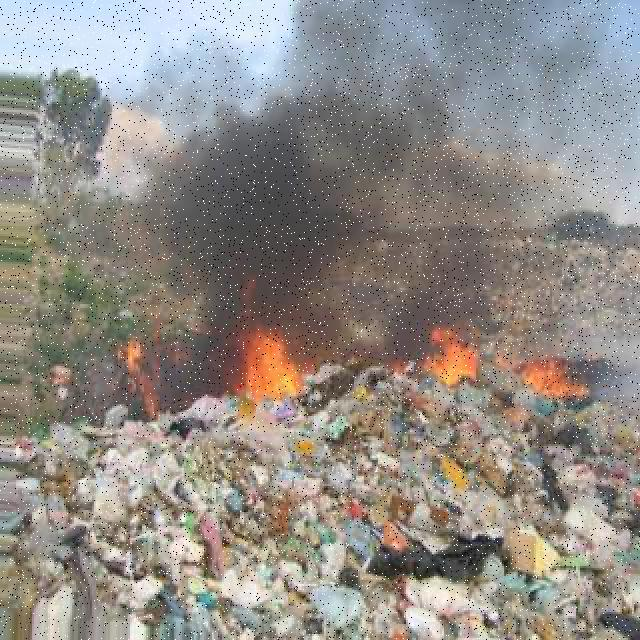fire: (228, 328, 324, 405), (115, 333, 172, 421), (428, 325, 480, 392), (516, 362, 588, 402)
smoke: (73, 7, 640, 365)
